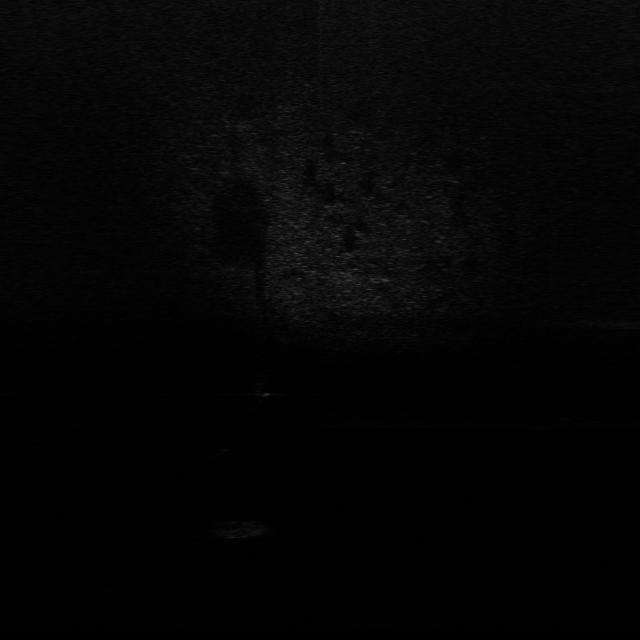circle cage: (213, 519, 269, 542)
human body: (253, 367, 273, 408)
